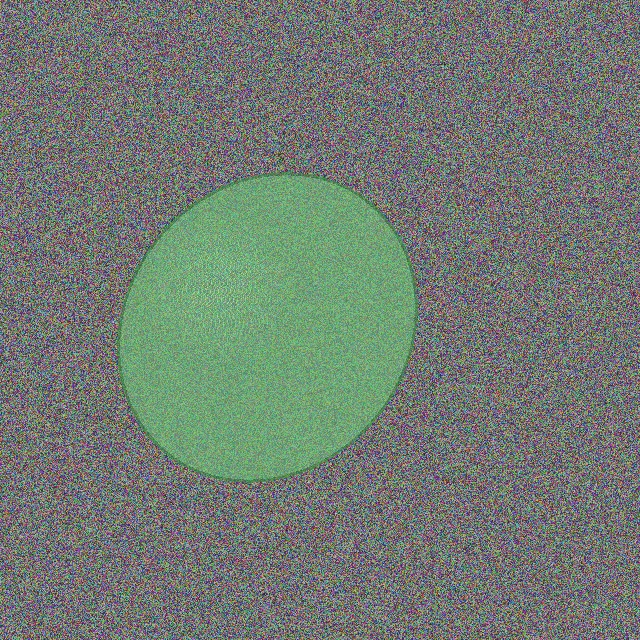lens: (118, 174, 416, 480)
